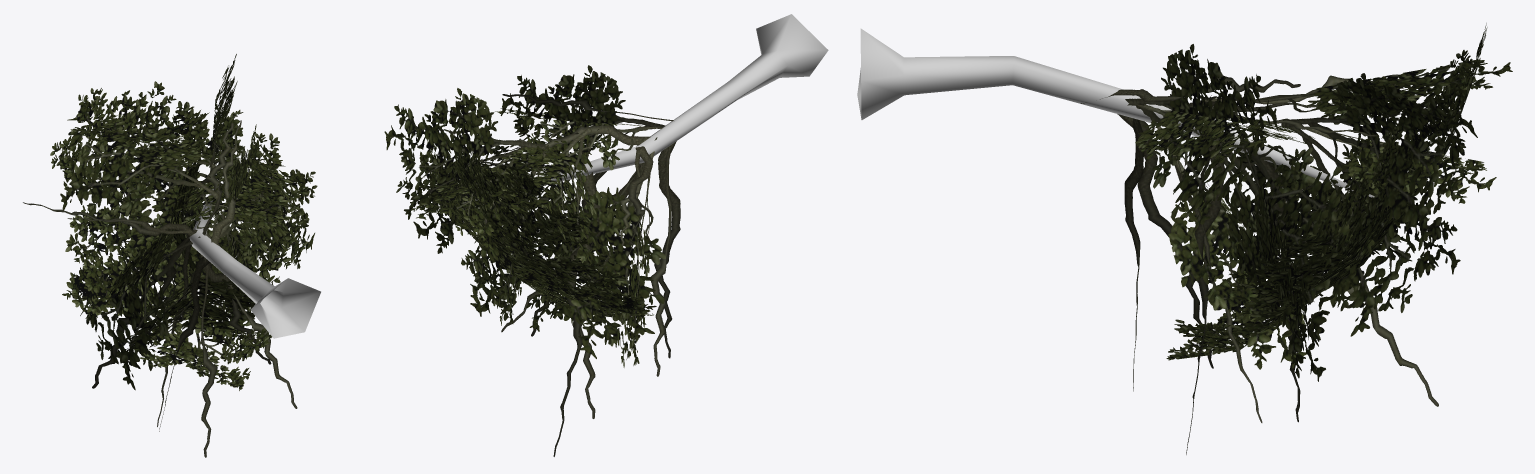
The model's file is Trees_02_g.fbx.
3 renders of one model, left to right at view 1: azimuth 30°, elevation 25°; view 2: azimuth 150°, elevation 25°; view 3: azimuth 270°, elevation 25°, orthographic. The views are drawn at different scales.
Visible parts, largest first — view 1: MEP_Leafs_02_g, MEP_TreeBark_01_g; view 2: MEP_Leafs_02_g, MEP_TreeBark_01_g; view 3: MEP_Leafs_02_g, MEP_TreeBark_01_g.
Part boxes in pixels (left/top/right/bottom): MEP_Leafs_02_g: left=23, top=54, right=317, bottom=457; MEP_TreeBark_01_g: left=189, top=186, right=320, bottom=338; MEP_Leafs_02_g: left=384, top=65, right=680, bottom=456; MEP_TreeBark_01_g: left=462, top=14, right=828, bottom=203; MEP_Leafs_02_g: left=1081, top=23, right=1512, bottom=454; MEP_TreeBark_01_g: left=857, top=28, right=1374, bottom=197.
Size of the model in its own units: 6.69 by 8.1 by 10.19.
